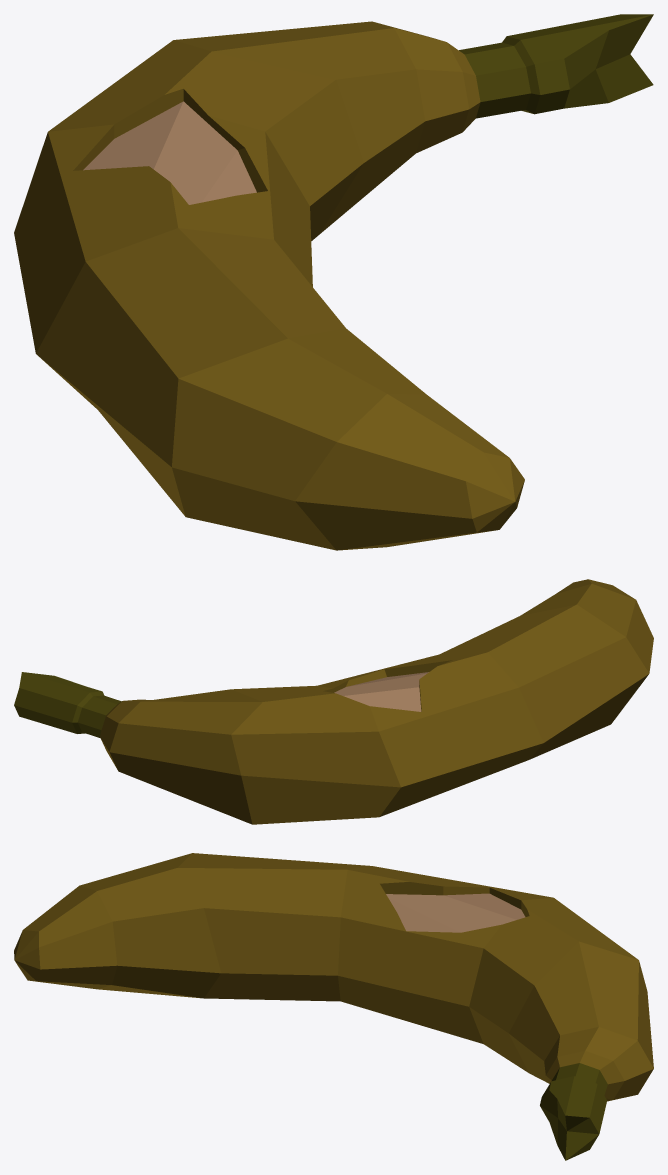
Rendered from Banana_Rotten.fbx.
The picture shows the model from 3 angles, top to bottom: view 1: azimuth 30°, elevation 25°; view 2: azimuth 150°, elevation 25°; view 3: azimuth 270°, elevation 25°; orthographic projection. The views are drawn at different scales.
Parts seen in each view (by area): view 1: SM_Banana_Rotten; view 2: SM_Banana_Rotten; view 3: SM_Banana_Rotten.
Boxes of the visible parts, box(x1,y1,x2,y2) form: SM_Banana_Rotten: box(14, 14, 653, 550); SM_Banana_Rotten: box(14, 579, 653, 824); SM_Banana_Rotten: box(14, 853, 653, 1160).
Size of the model in its own units: 19.44 by 5 by 21.25.
1 material, 1 textured.
